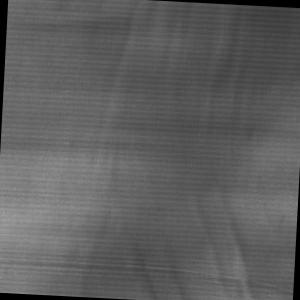Wrinkle: (6, 1, 300, 300)
